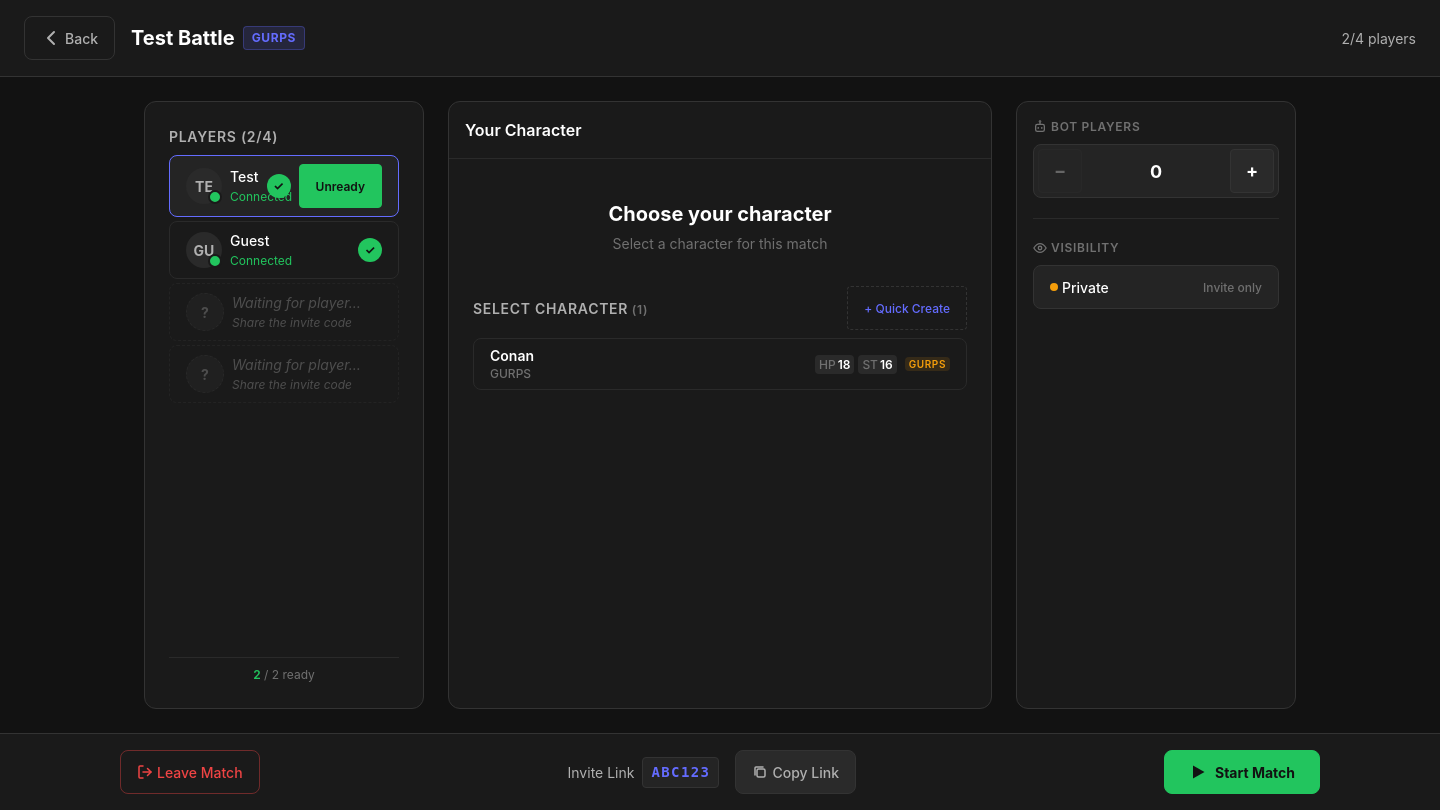
Test case: LobbyScreen › clicking Start Match shows confirmation dialog
Click the button "Start Match" at (1242, 772), box [1164,750,1320,794]
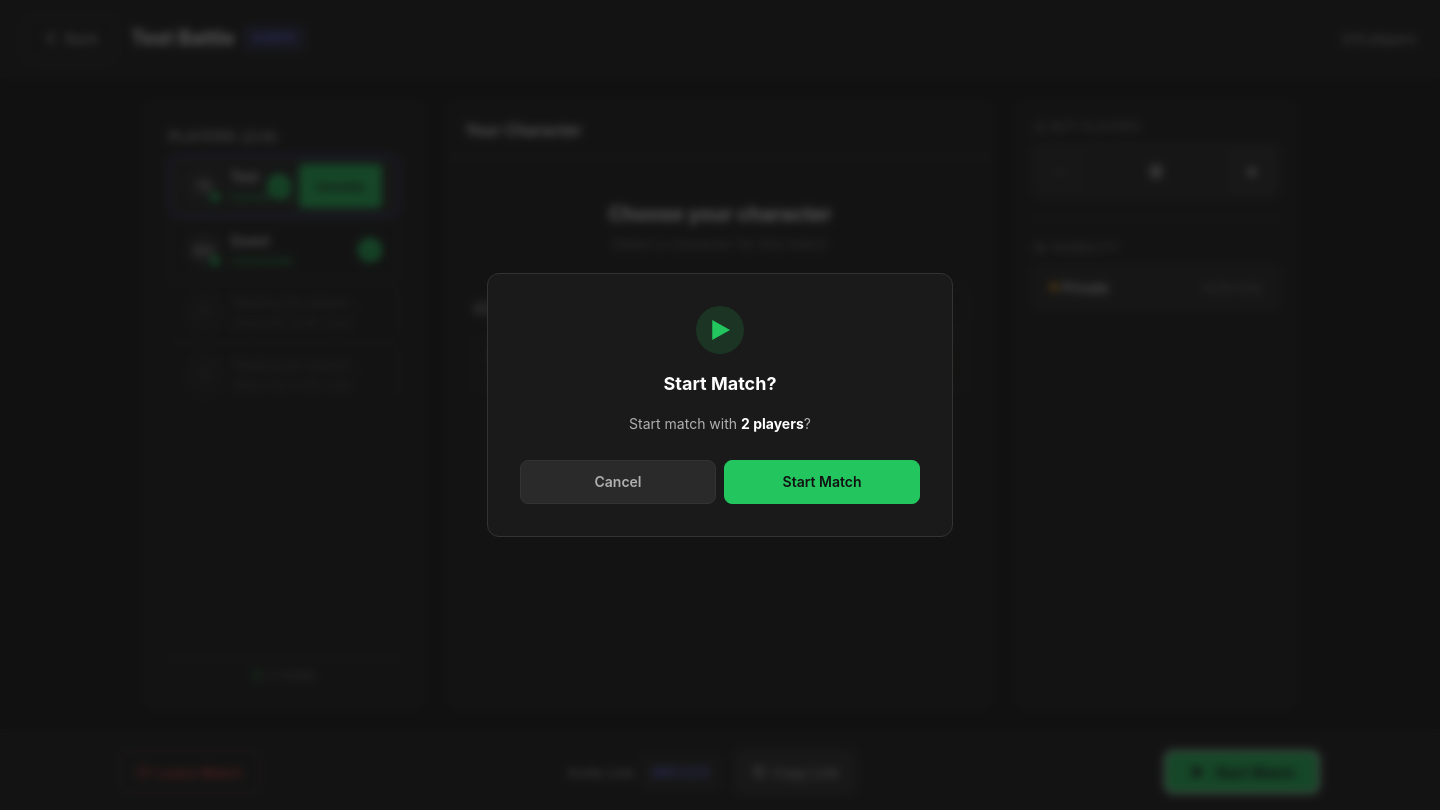
Expected: the heading "Start Match?" is shown, [664,370,776,397]
